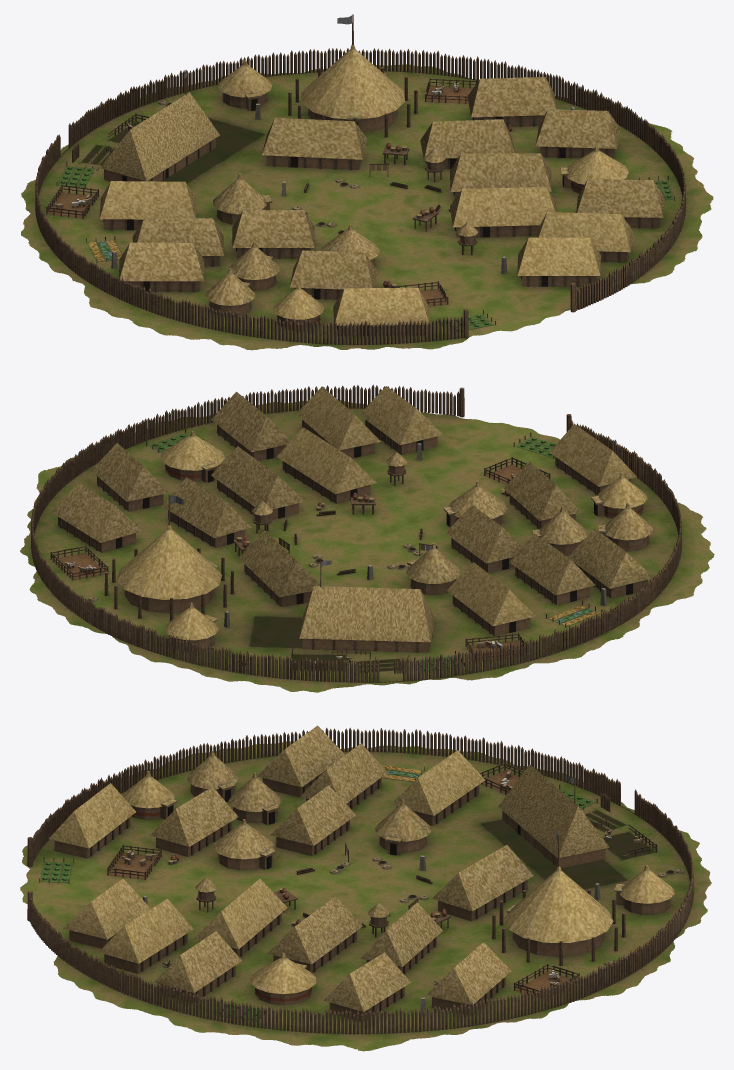
File: stone-town-big-a-europe.glb
3 renders of one model, top to bottom at view 1: azimuth 30°, elevation 25°; view 2: azimuth 150°, elevation 25°; view 3: azimuth 270°, elevation 25°, orthographic. The views are drawn at different scales.
Parts seen in each view (by area): view 1: LOD0; view 2: LOD0; view 3: LOD0.
Boxes of the visible parts, x1,y1,x2,y2 form: LOD0: (21,14,713,350); LOD0: (20,384,714,692); LOD0: (20,725,711,1051).
Size of what is drawn, in the model's own units: 8.03 by 1.25 by 7.61.
Materials: 3 (3 with a texture image).
